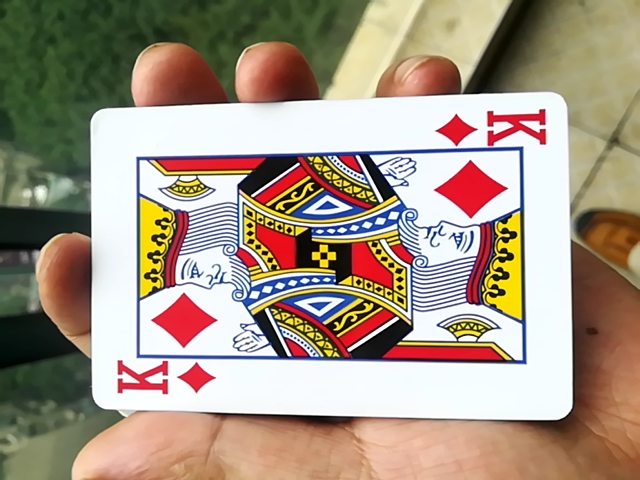fk k: (76, 98, 576, 419)
